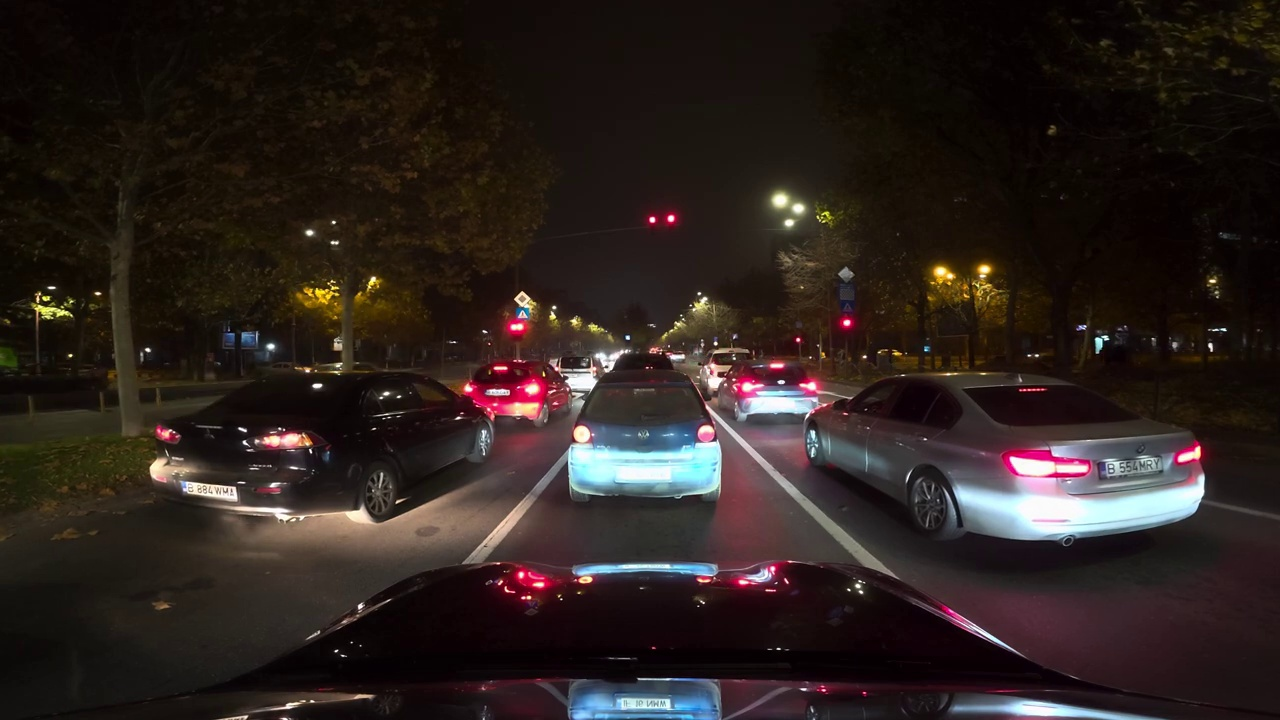acesa: (768, 187, 802, 222), (931, 263, 955, 285)
